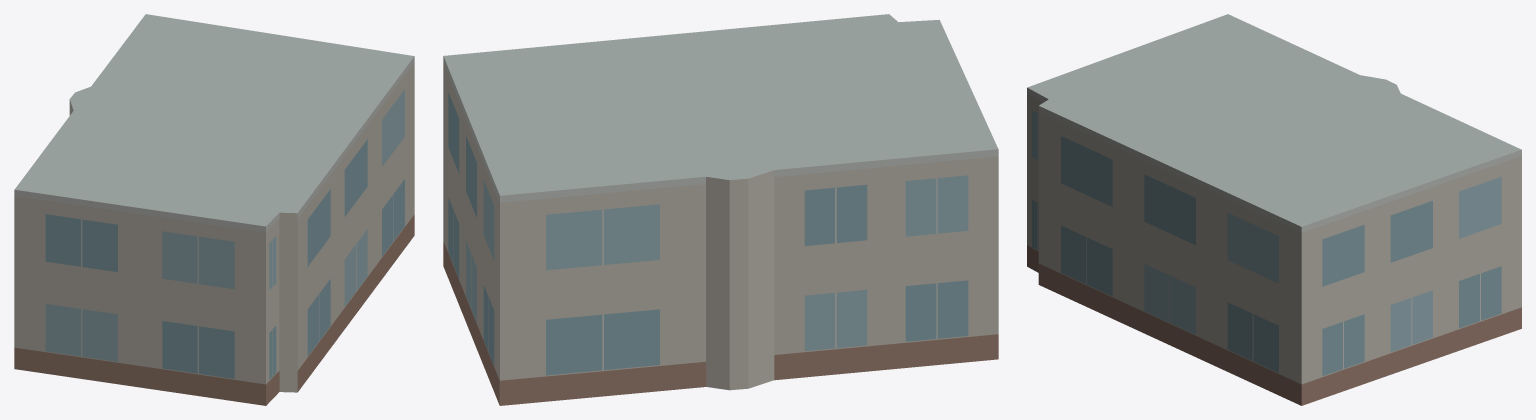
Rendered from survey-upis-32922655.glb.
The picture shows the model from 3 angles, left to right: view 1: azimuth 30°, elevation 25°; view 2: azimuth 150°, elevation 25°; view 3: azimuth 270°, elevation 25°; orthographic projection. The views are drawn at different scales.
Parts seen in each view (by area): view 1: survey-upis-32922655.tmp; view 2: survey-upis-32922655.tmp; view 3: survey-upis-32922655.tmp.
Part boxes in pixels (box(x1,y1,x2,y2)): survey-upis-32922655.tmp: box(14, 14, 414, 405); survey-upis-32922655.tmp: box(443, 14, 998, 405); survey-upis-32922655.tmp: box(1027, 14, 1521, 405).
Size of the model in its own units: 18.37 by 7.2 by 18.04.
